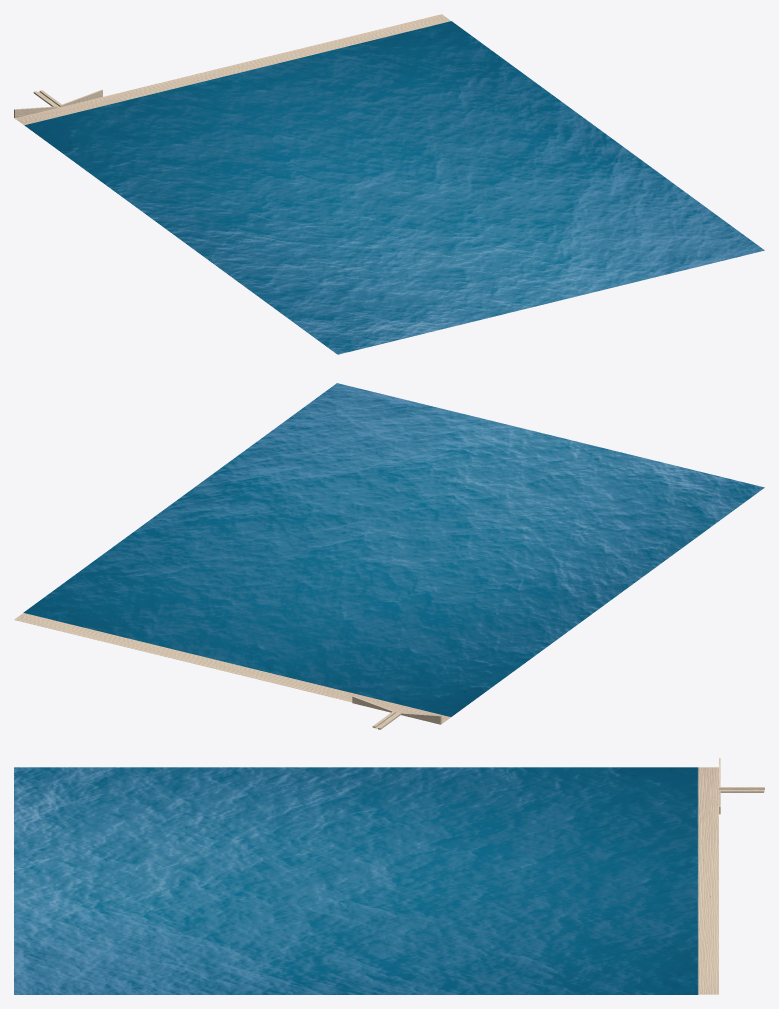
The model's file is beachScene.fbx.
The picture shows the model from 3 angles, top to bottom: view 1: azimuth 30°, elevation 25°; view 2: azimuth 150°, elevation 25°; view 3: azimuth 270°, elevation 25°; orthographic projection. The views are drawn at different scales.
Visible parts, largest first — view 1: pCube8, pCube4; view 2: pCube8, pCube4; view 3: pCube8, pCube4.
Boxes of the visible parts, bbox=[...] form: pCube8: bbox=[24, 21, 764, 354]; pCube4: bbox=[15, 14, 450, 125]; pCube8: bbox=[23, 383, 764, 716]; pCube4: bbox=[14, 613, 450, 723]; pCube8: bbox=[14, 767, 698, 994]; pCube4: bbox=[698, 767, 718, 994].
Size of the model in its own units: 5672 by 108 by 7909.
2 materials, 2 textured.
